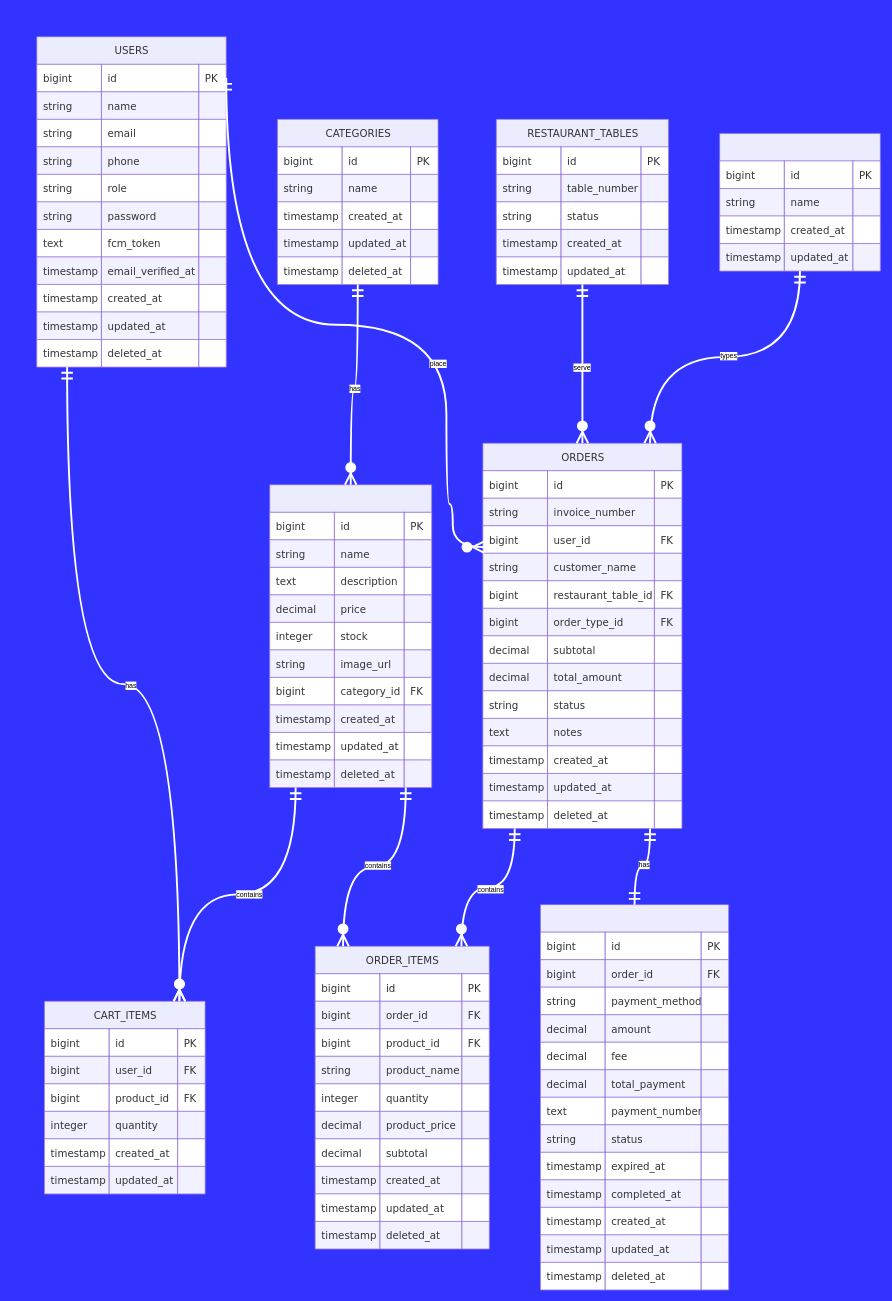
Image size: 892x1301. Some labels were removed from this diagram. Here are the shapes that lost their labels. From the top down, the box of each, then its label:
(719, 133, 880, 271): ORDER_TYPES
(269, 484, 432, 788): PRODUCTS
(540, 904, 729, 1290): PAYMENTS
